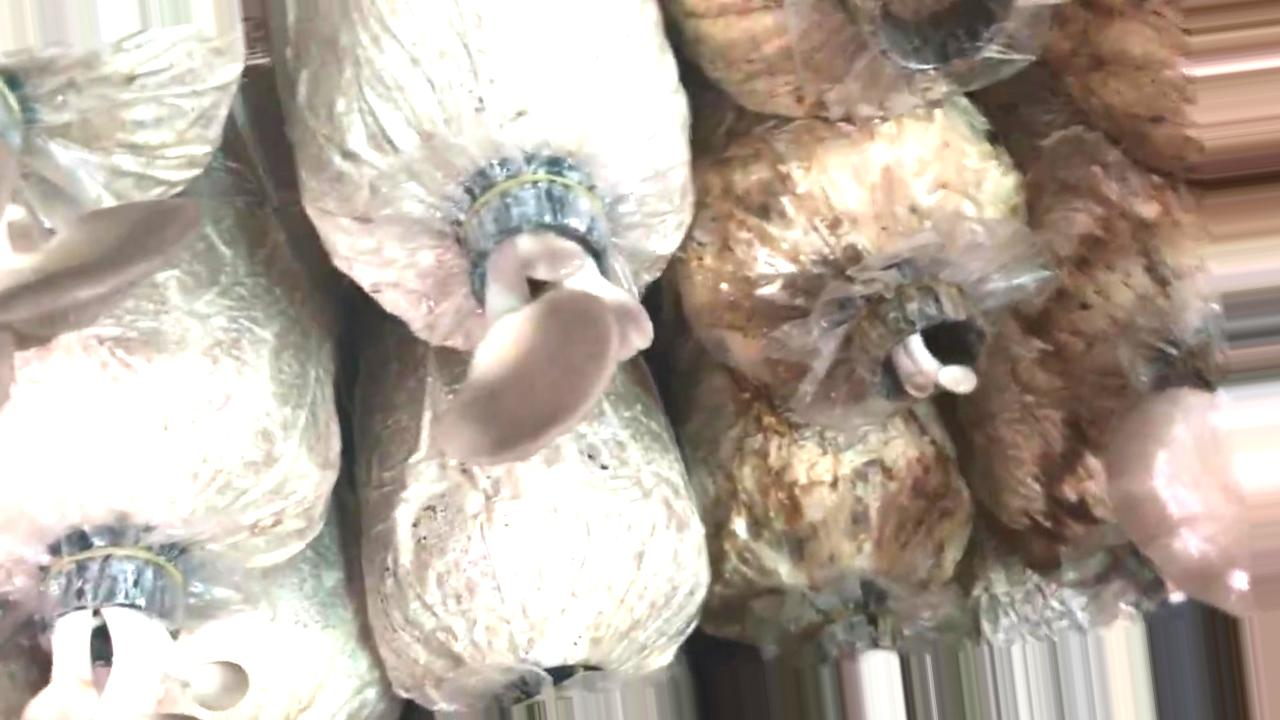nam: (1, 86, 203, 407), (435, 180, 653, 466), (1103, 384, 1280, 622), (874, 295, 981, 402)
